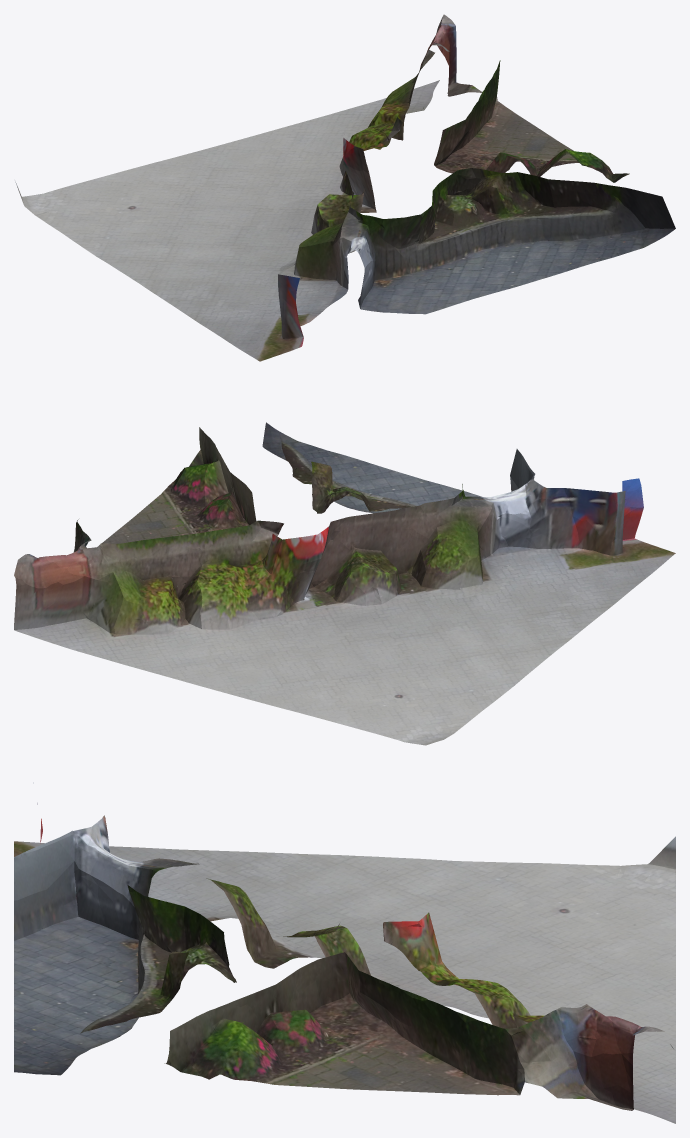
The picture shows the model from 3 angles, top to bottom: view 1: azimuth 30°, elevation 25°; view 2: azimuth 150°, elevation 25°; view 3: azimuth 270°, elevation 25°; orthographic projection. The views are drawn at different scales.
Size of the model in its own units: 8.36 by 1.61 by 8.36.
Materials: 3 (3 with a texture image).
